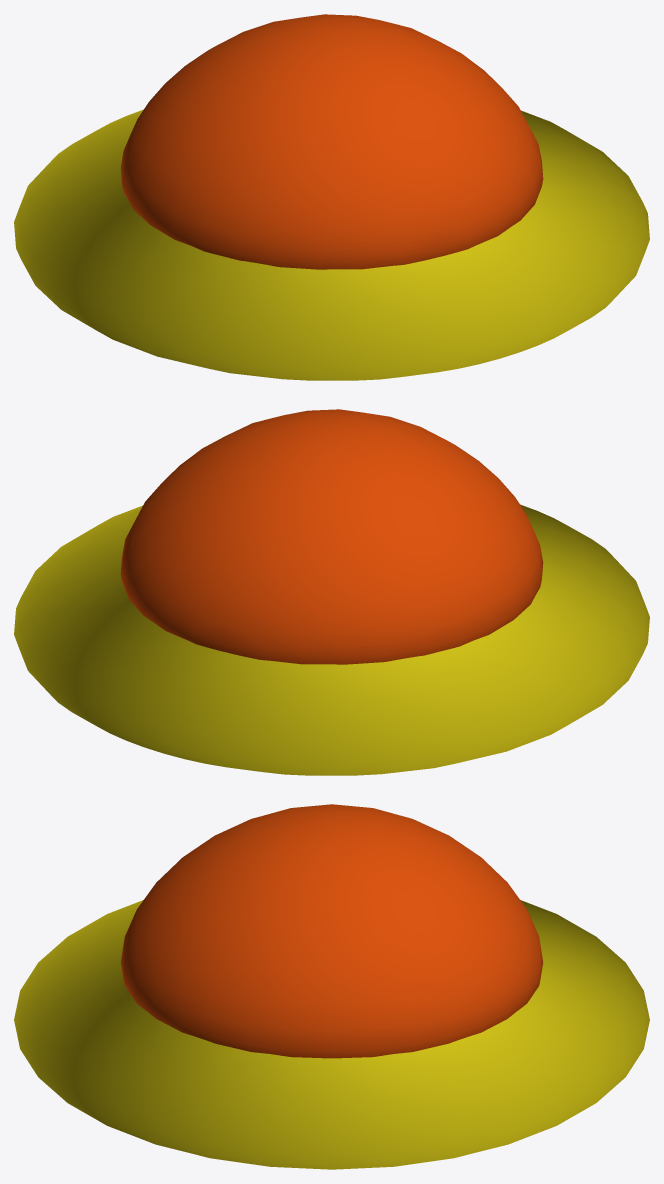
File: ufo3.obj
The picture shows the model from 3 angles, top to bottom: view 1: azimuth 30°, elevation 25°; view 2: azimuth 150°, elevation 25°; view 3: azimuth 270°, elevation 25°; orthographic projection.
Parts seen in each view (by area): view 1: Sphere02, Sphere01; view 2: Sphere02, Sphere01; view 3: Sphere02, Sphere01.
Boxes of the visible parts, box(x1,y1,x2,y2) form: Sphere02: box(14, 109, 649, 380); Sphere01: box(120, 14, 543, 269); Sphere02: box(14, 504, 649, 775); Sphere01: box(120, 409, 543, 664); Sphere02: box(14, 900, 649, 1169); Sphere01: box(120, 804, 543, 1058).
Size of the model in its own units: 122 by 55.52 by 122.
